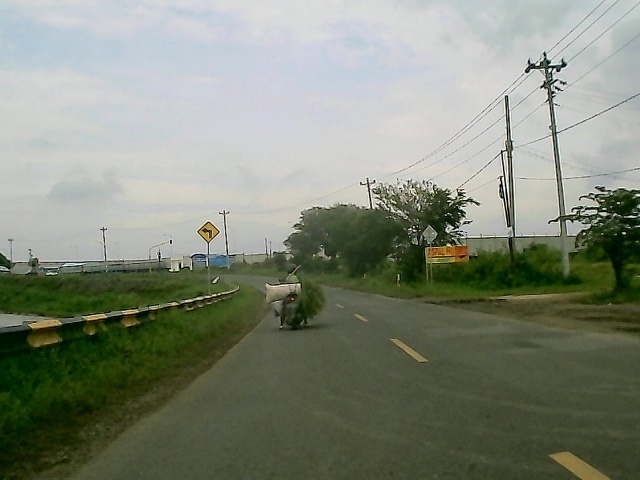Tikungan tajam ke kiri: (196, 218, 221, 246)
